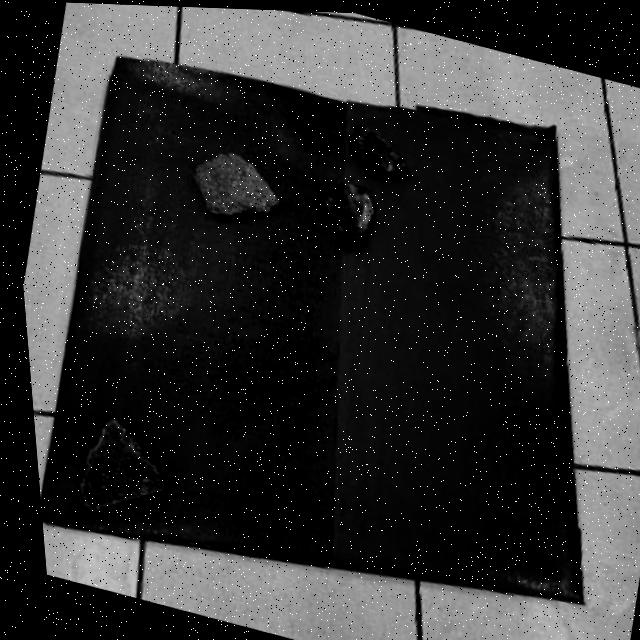Road Debris: (61, 412, 179, 533), (185, 136, 287, 237), (305, 175, 375, 239), (337, 117, 408, 175)
